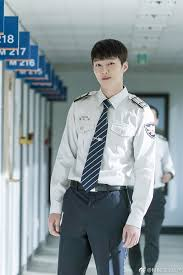people: (48, 40, 154, 275), (133, 106, 175, 275)
